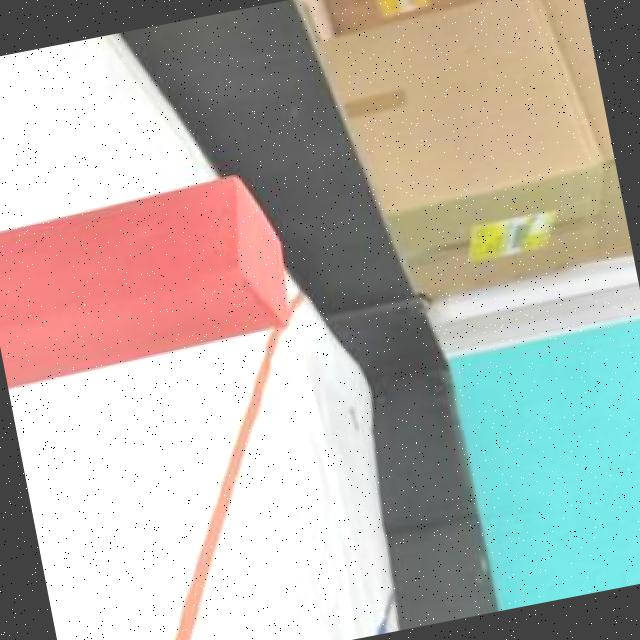redbox: (0, 168, 299, 393)
